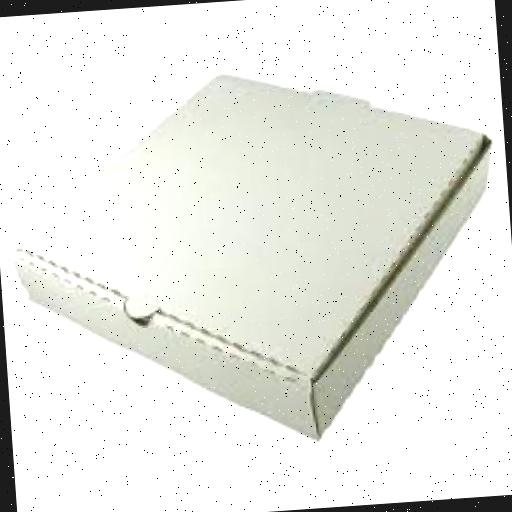cardboard: (0, 51, 510, 460)
